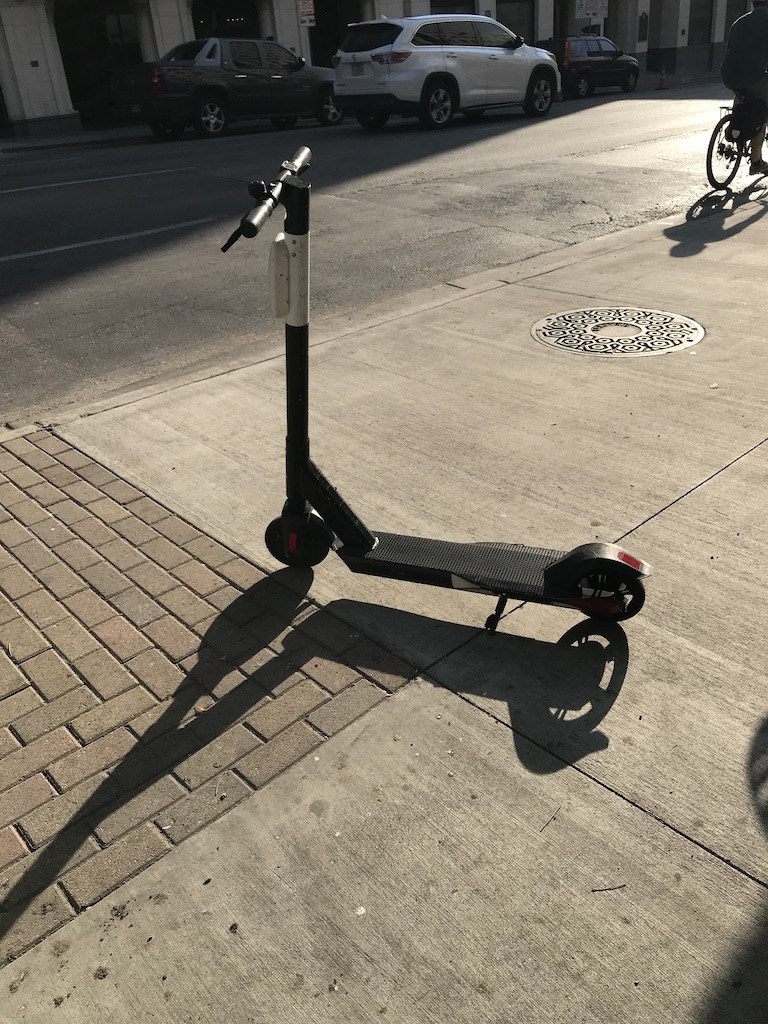scooter: (219, 148, 650, 623)
